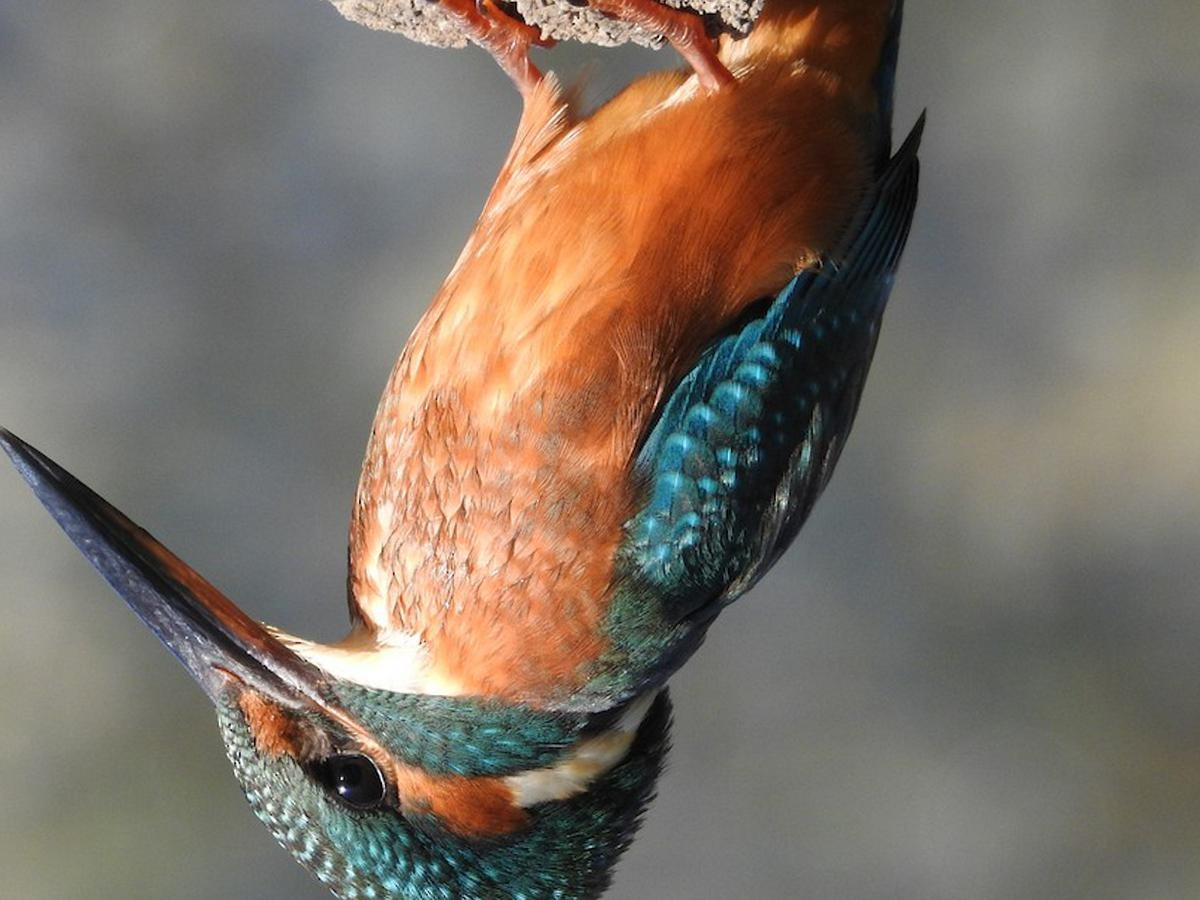kingfisher: (1, 5, 934, 900)
